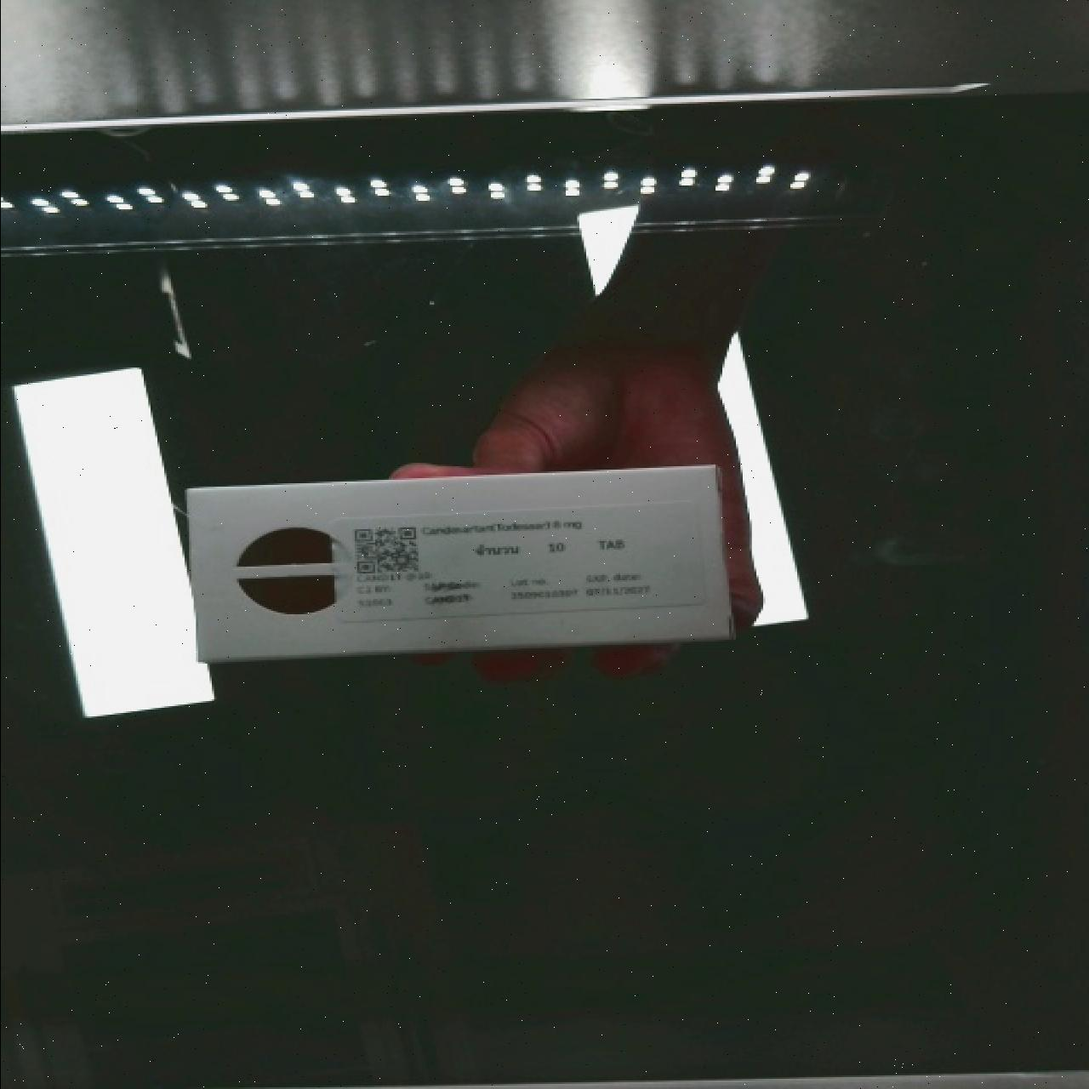qr_code: (335, 511, 435, 590)
